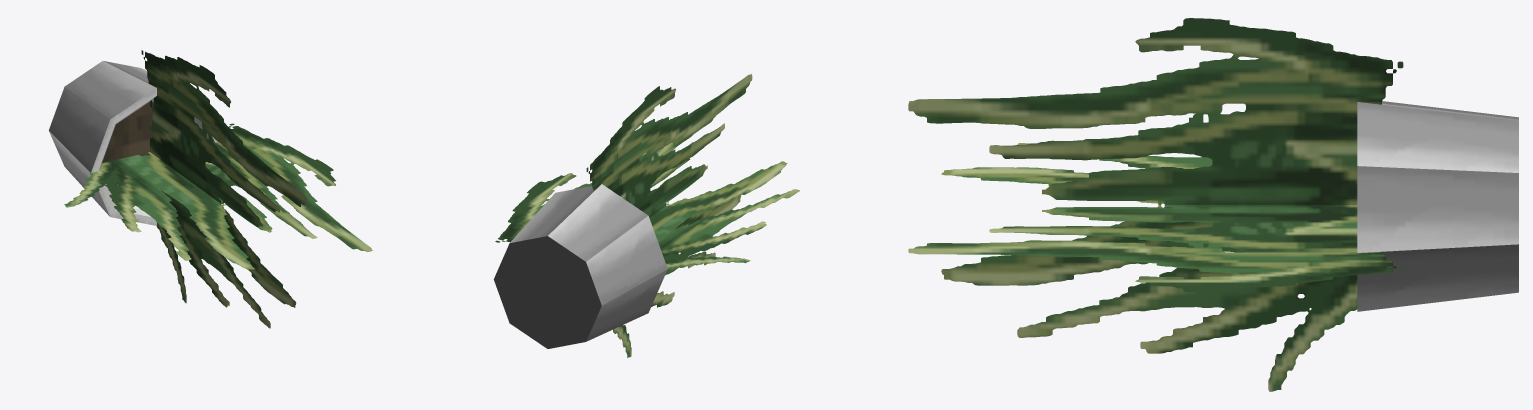
File: pz_plant_native_10.obj
3 renders of one model, left to right at view 1: azimuth 30°, elevation 25°; view 2: azimuth 150°, elevation 25°; view 3: azimuth 270°, elevation 25°, orthographic. The views are drawn at different scales.
Visible parts, largest first — view 1: foliage_PNG_crossed_cards, pot_soil_and_rim; view 2: pot_soil_and_rim, foliage_PNG_crossed_cards; view 3: foliage_PNG_crossed_cards, pot_soil_and_rim.
Part boxes in pixels (x1,y1,x2,y2): foliage_PNG_crossed_cards: (64, 50, 372, 328); pot_soil_and_rim: (48, 61, 217, 225); pot_soil_and_rim: (493, 184, 667, 348); foliage_PNG_crossed_cards: (495, 74, 799, 357); foliage_PNG_crossed_cards: (908, 18, 1403, 391); pot_soil_and_rim: (1357, 101, 1518, 311).
Bounding box in the file's own units: 1.02 × 1.02 × 1.49.
Materials: 1 (1 with a texture image).
